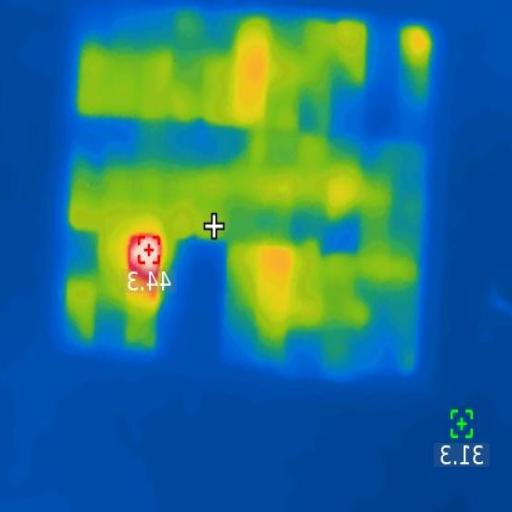hotspot: (128, 234, 160, 278)
